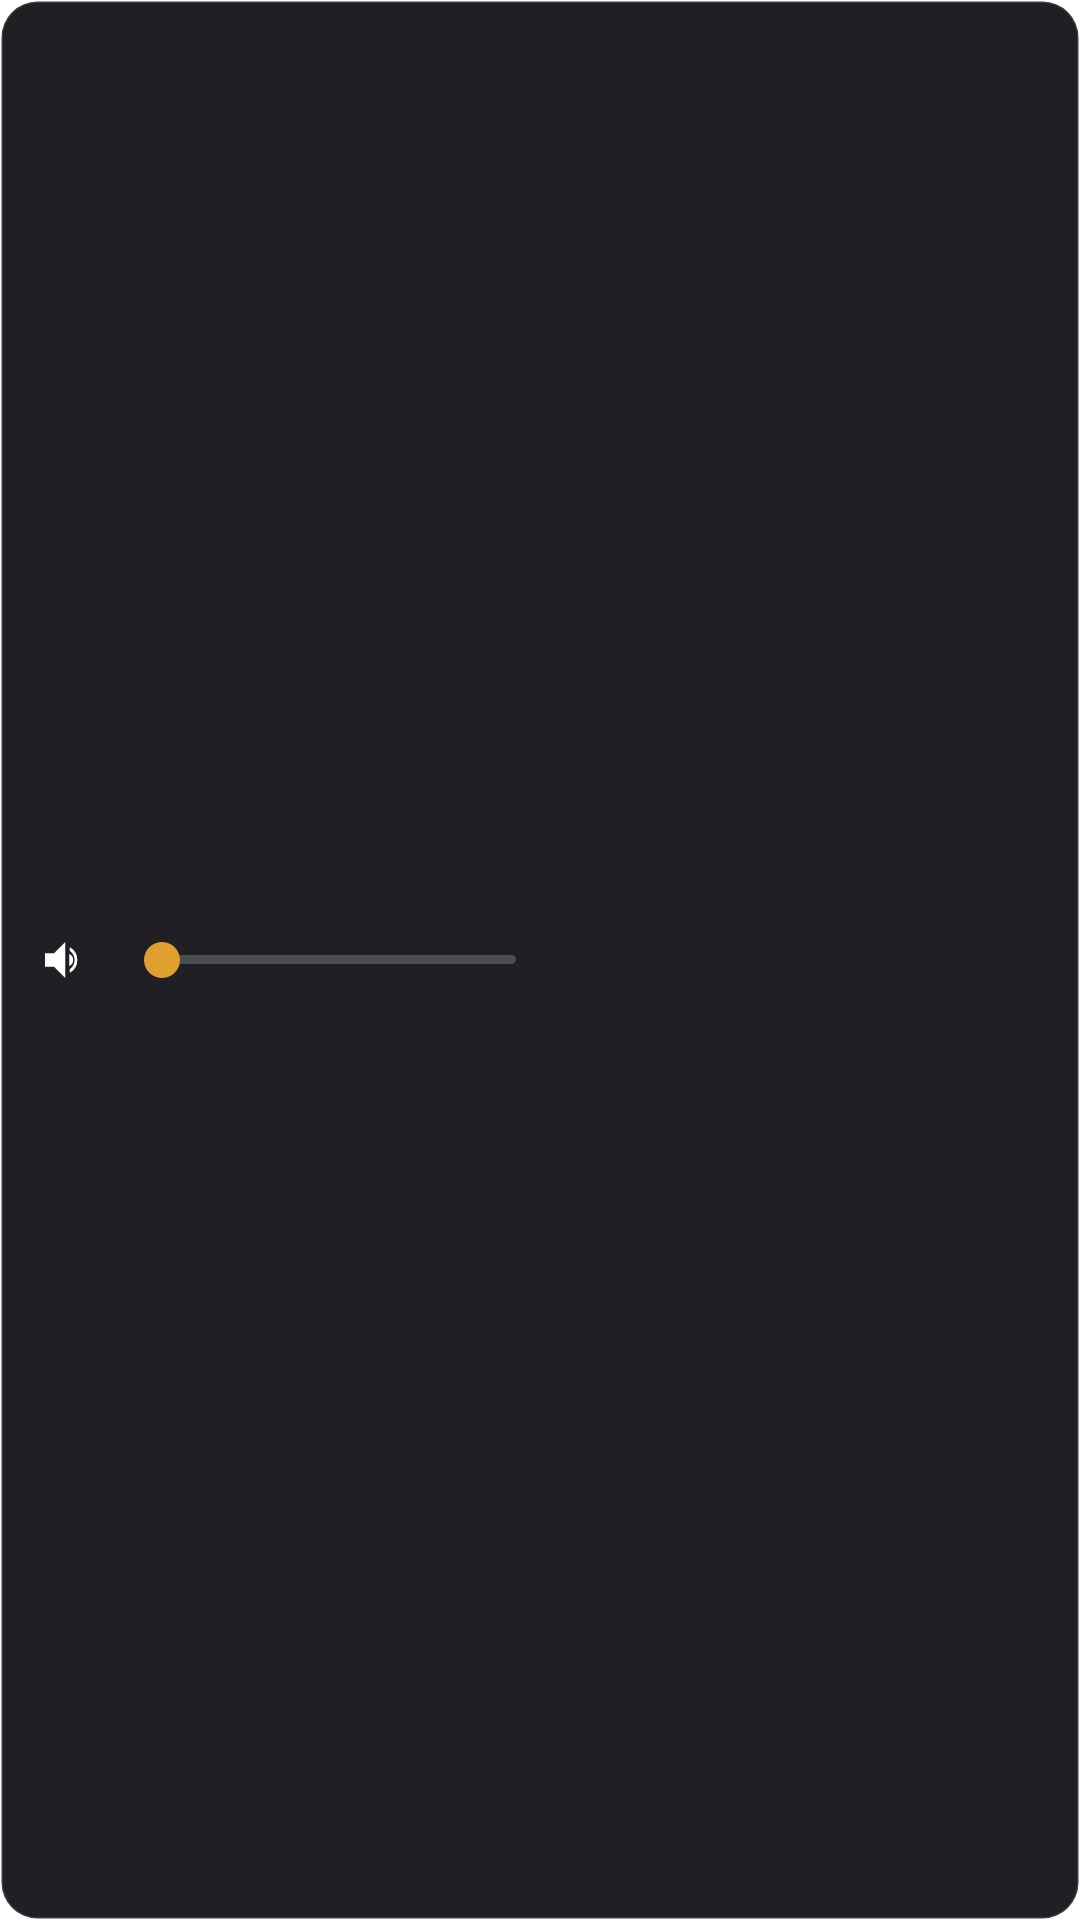

Icon click points for this 1080×1920 phone screenshot, format (x,y):
volume: (61,960)
